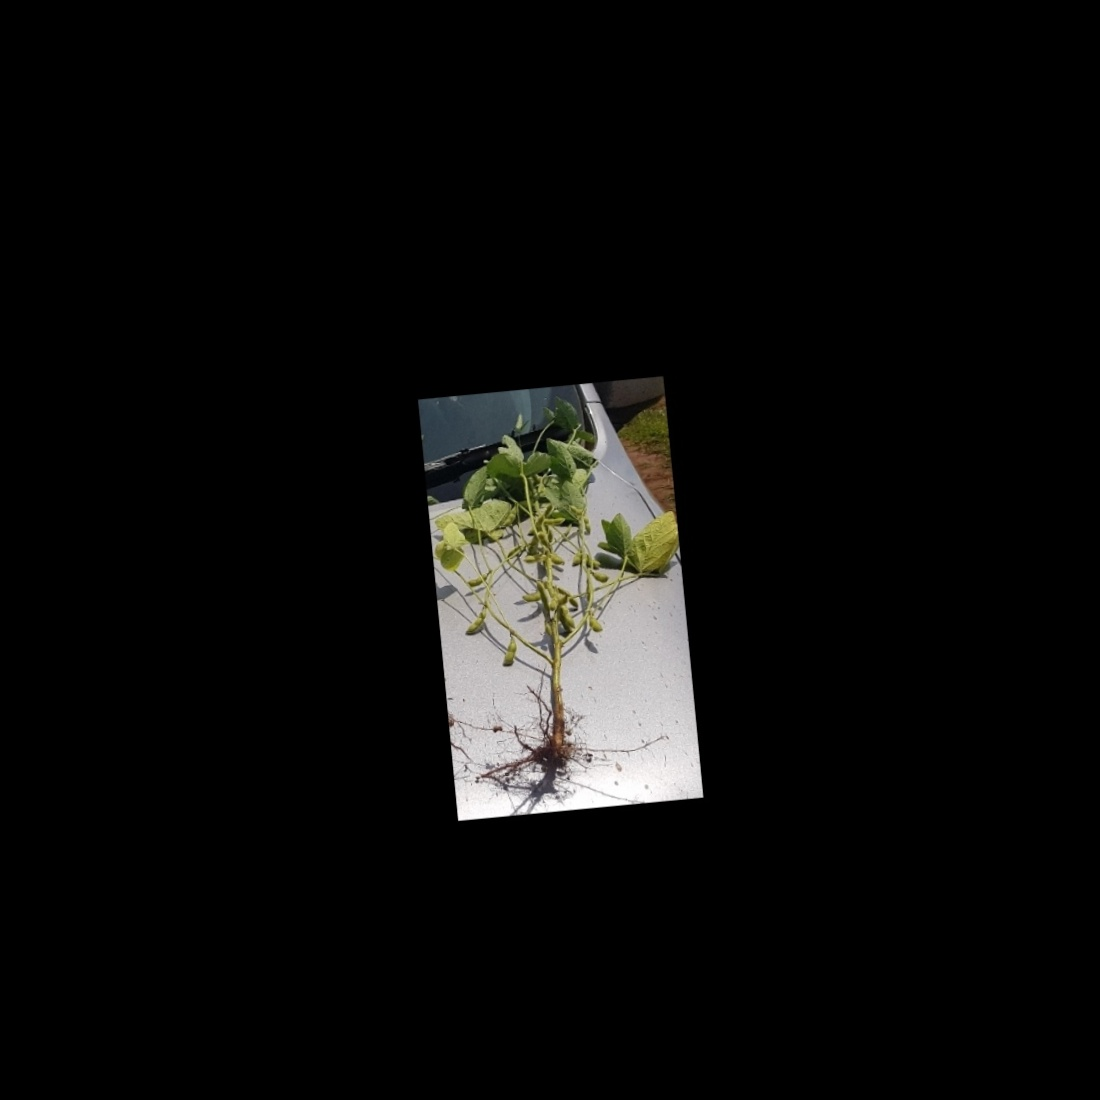pod: (460, 600, 491, 640), (496, 631, 520, 672), (498, 502, 520, 532), (464, 569, 495, 589), (585, 612, 608, 639), (540, 514, 569, 528), (589, 569, 612, 585)
soy: (430, 397, 674, 788)
